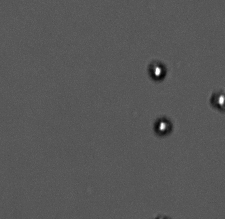Living Cell: (146, 59, 171, 82), (152, 115, 173, 136), (208, 88, 224, 110)
